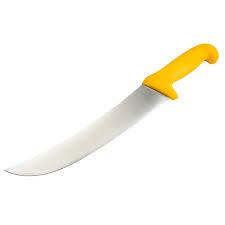Knife: (3, 42, 219, 176)
